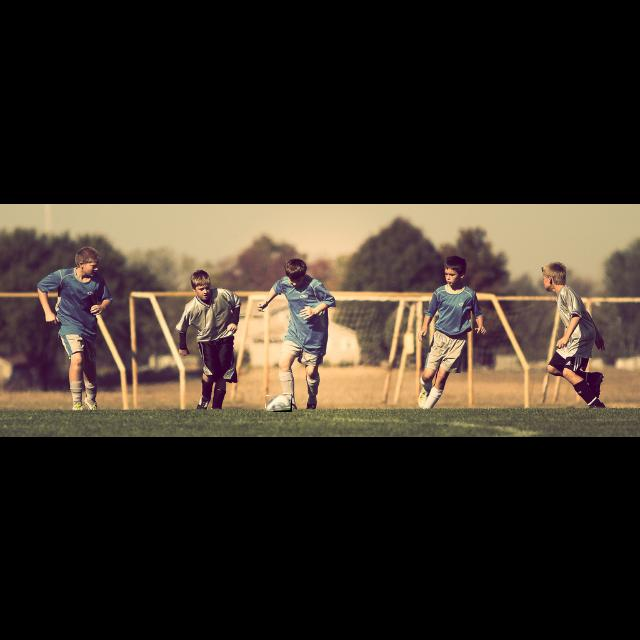Football: (266, 394, 292, 412)
